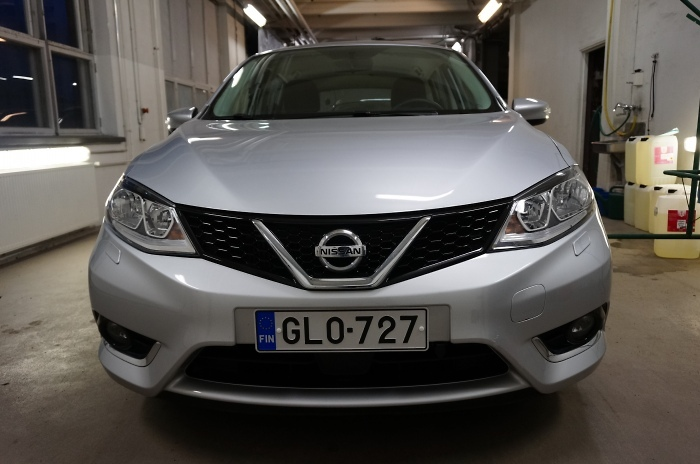license: (254, 307, 425, 355)
